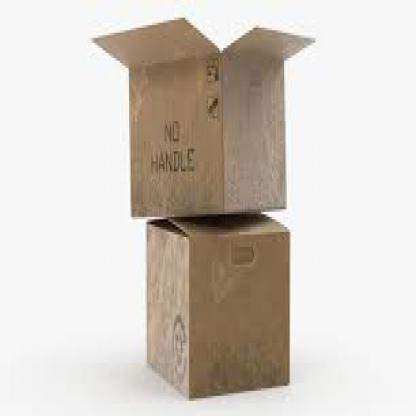CARDBOARD: (90, 15, 314, 214), (146, 217, 289, 401)
